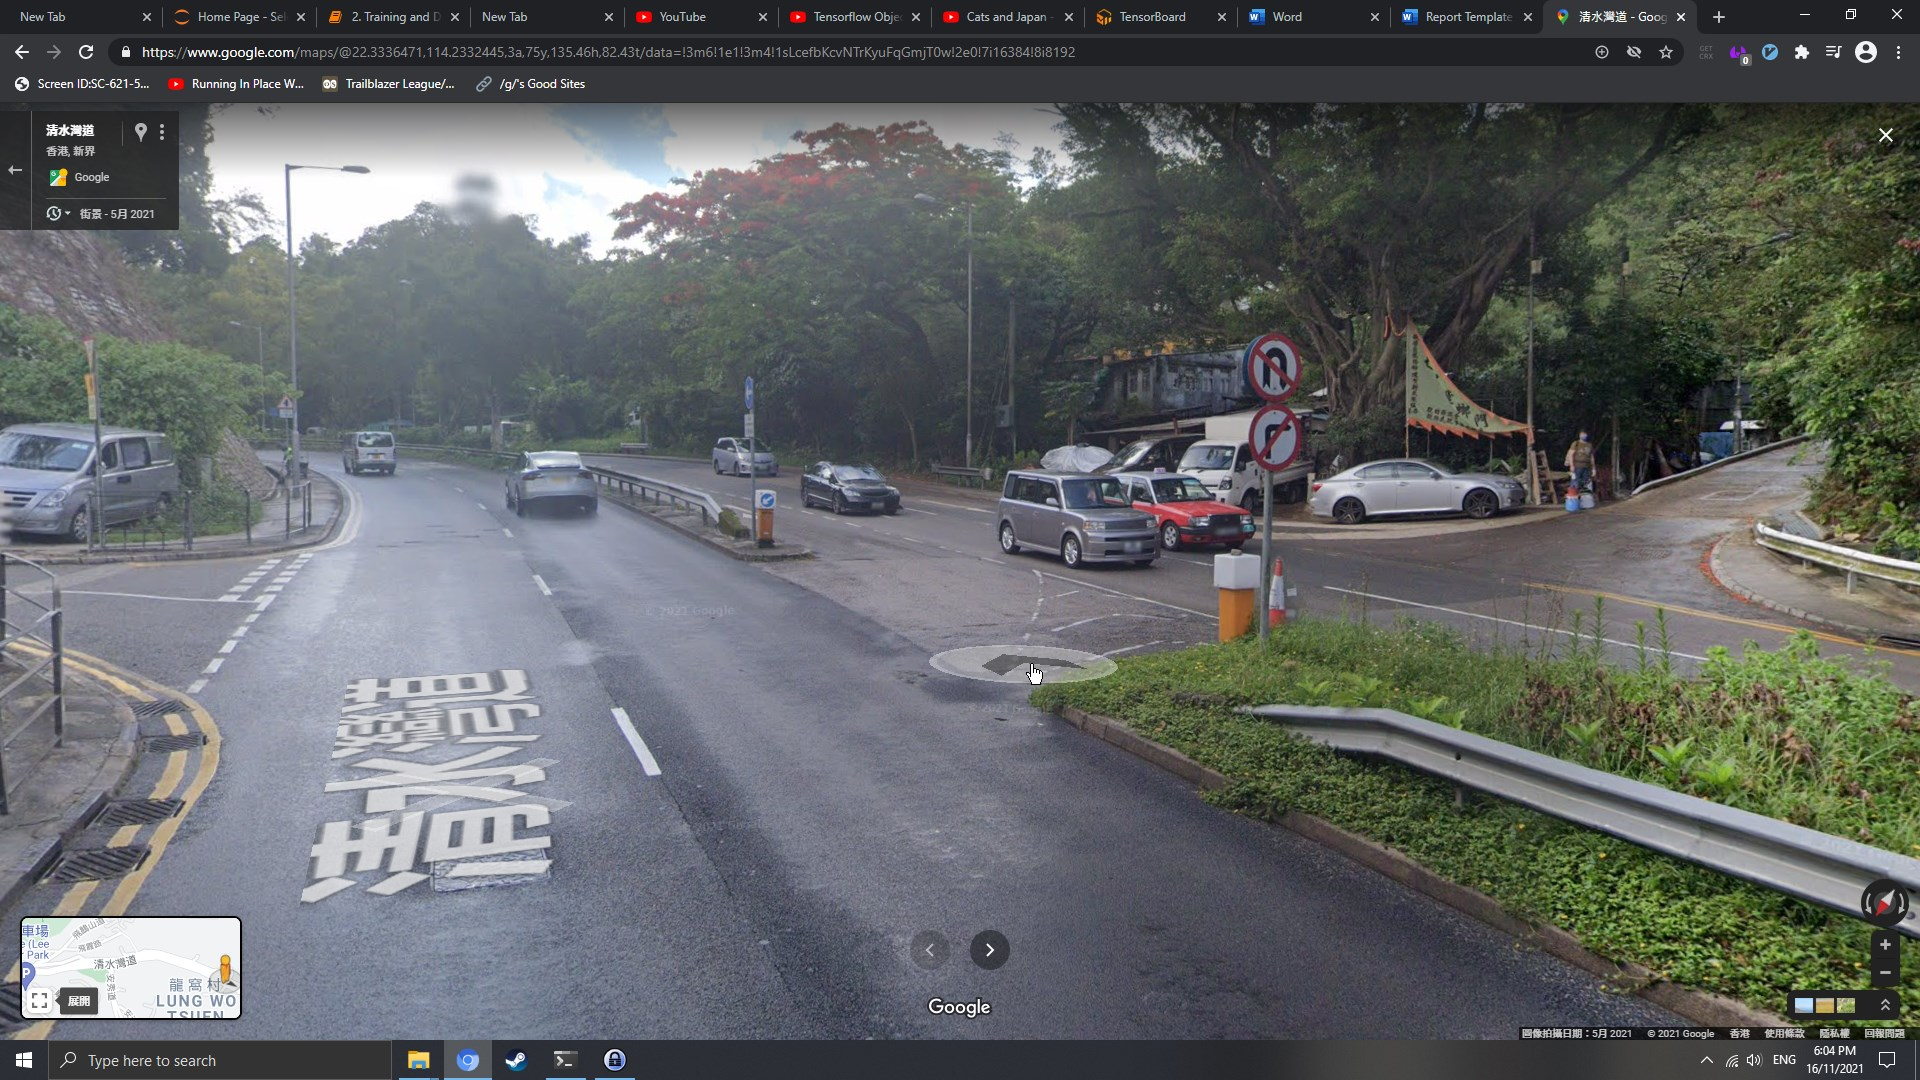NoUTurn: (1247, 334, 1302, 402)
